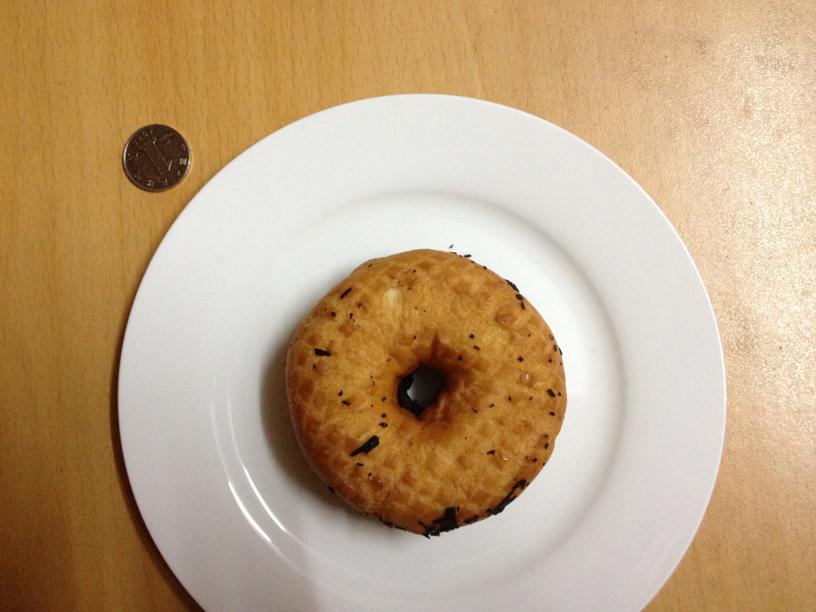coin: (121, 122, 190, 194)
doughnut: (284, 243, 567, 535)
